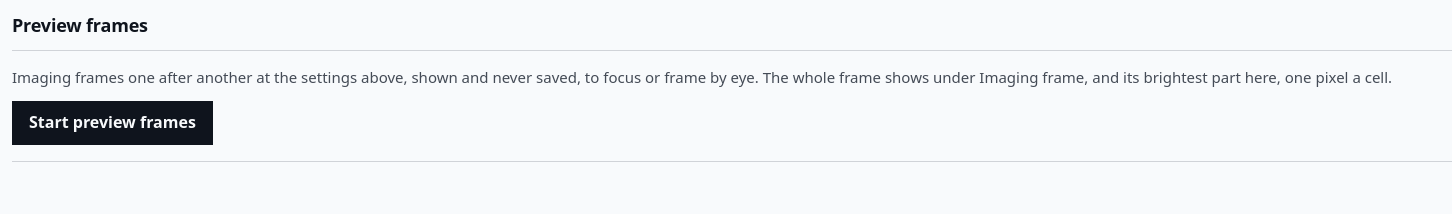
Test: the Preview frames block: frames, stopping and starting › stops with the words of a failed frame, an aborted frame and an overtaking frame
Later steps or results of the test are not shown.
Step 1. Click the button "Start preview frames" → (112, 123), box [12,101,213,145]
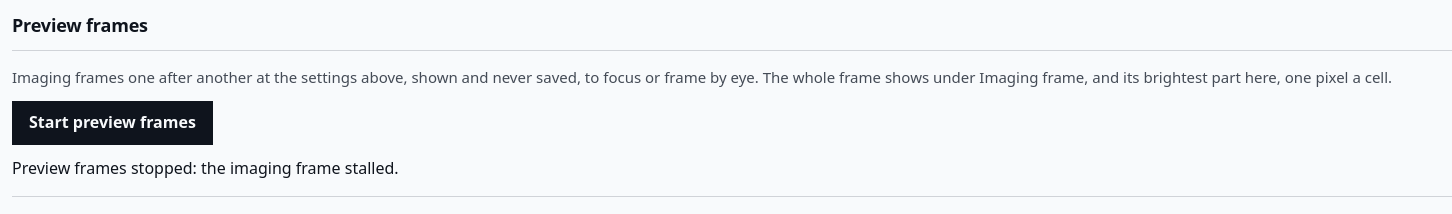
Now the message reads "Preview frames stopped: the imaging frame stalled.", box [12,157,399,179]
